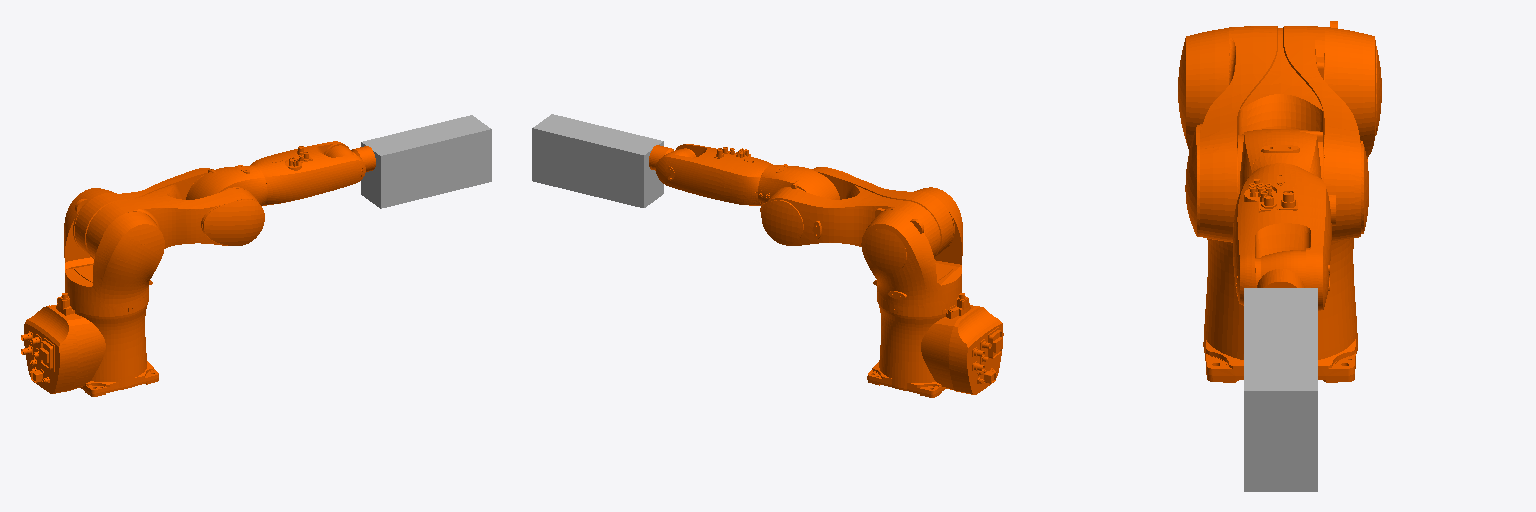
URDF robot description (kuka_kr6):
<?xml version="1.0" ?>
<!-- =================================================================================== -->
<!-- |    This document was autogenerated by xacro from kuka_kr6_description_mesh_noword.xacro | -->
<!-- |    EDITING THIS FILE BY HAND IS NOT RECOMMENDED                                 | -->
<!-- =================================================================================== -->
<robot name="kuka_kr6" xmlns:xacro="http://ros.org/wiki/xacro">
  <!-- link list -->
  <link name="base_link">
    <visual>
      <origin rpy="0 0 0" xyz="0 0 0"/>
      <geometry>
        <mesh filename="package://kuka_kr6/robots/base_link.STL"/>
      </geometry>
      <material name="orange">
        <color rgba="1 0.43 0 1"/>
      </material>
    </visual>
    <collision>
      <geometry>
        <mesh filename="package://kuka_kr6/robots/base_link_collision_reduced.STL"/>
      </geometry>
      <material name="yellow">
        <color rgba="0 1 1 1"/>
      </material>
    </collision>
  </link>
  <link name="link1">
    <visual>
      <origin rpy="0 0 0" xyz="0.025 0 0"/>
      <geometry>
        <mesh filename="package://kuka_kr6/robots/link1.STL"/>
      </geometry>
      <material name="orange"/>
    </visual>
    <collision>
      <geometry>
        <mesh filename="package://kuka_kr6/robots/link1_collision_reduced.STL"/>
      </geometry>
      <material name="yellow"/>
    </collision>
  </link>
  <link name="link2">
    <visual>
      <origin rpy="0 0 0" xyz="0 0 0"/>
      <geometry>
        <mesh filename="package://kuka_kr6/robots/link2.STL"/>
      </geometry>
      <material name="orange"/>
    </visual>
    <collision>
      <geometry>
        <mesh filename="package://kuka_kr6/robots/link2_collision_reduced.STL"/>
      </geometry>
      <material name="yellow"/>
    </collision>
  </link>
  <link name="link3">
    <visual>
      <origin rpy="0 0 0" xyz="0 -0.035 0"/>
      <geometry>
        <mesh filename="package://kuka_kr6/robots/link3.STL"/>
      </geometry>
      <material name="orange"/>
    </visual>
    <collision>
      <geometry>
        <mesh filename="package://kuka_kr6/robots/link3_collision_reduced.STL"/>
      </geometry>
      <material name="yellow"/>
    </collision>
  </link>
  <link name="link4">
    <visual>
      <origin rpy="0 0 0" xyz="0 0 0"/>
      <geometry>
        <mesh filename="package://kuka_kr6/robots/link4.STL"/>
      </geometry>
      <material name="orange"/>
    </visual>
    <collision>
      <geometry>
        <mesh filename="package://kuka_kr6/robots/link4_collision_reduced.STL"/>
      </geometry>
      <material name="yellow"/>
    </collision>
  </link>
  <link name="link5">
    <visual>
      <origin rpy="0 -1.57079633 0" xyz="0 0 0"/>
      <geometry>
        <mesh filename="package://kuka_kr6/robots/link5.STL"/>
      </geometry>
      <material name="orange"/>
    </visual>
    <collision>
      <geometry>
        <mesh filename="package://kuka_kr6/robots/link5_collision_reduced.STL"/>
      </geometry>
      <material name="yellow"/>
    </collision>
  </link>
  <link name="link6">
    <visual>
      <origin rpy="0 0 0" xyz="0 0 0"/>
      <geometry>
        <mesh filename="package://kuka_kr6/robots/link6.STL"/>
      </geometry>
      <material name="orange"/>
    </visual>
    <collision>
      <geometry>
        <mesh filename="package://kuka_kr6/robots/link6_collision_reduced.STL"/>
      </geometry>
      <material name="yellow"/>
    </collision>
  </link>
  <link name="flange">
    <visual>
      <origin rpy="0 0 0" xyz="0.05 0 0.165"/>
      <geometry>
        <box size="0.15 0.1 0.33"/>
      </geometry>
      <material name="silver">
        <color rgba="0.75 0.75 0.75 1"/>
      </material>
    </visual>
    <collision>
      <origin rpy="0 0 0" xyz="0.05 0 0.165"/>
      <geometry>
        <box size="0.15 0.1 0.33"/>
      </geometry>
      <material name="silver"/>
    </collision>
  </link>
  <link name="tip"/>
  <!-- end of link list -->
  <!-- joint list -->
  <joint name="joint1" type="revolute">
    <origin rpy="3.14159265 0 0" xyz="0 0 0.4"/>
    <parent link="base_link"/>
    <child link="link1"/>
    <axis xyz="0 0 1"/>
    <limit effort="1" lower="-2.967059728" upper="2.967059728" velocity="1"/>
  </joint>
  <joint name="joint2" type="revolute">
    <origin rpy="1.57079633 0 0" xyz="0.025 0 0"/>
    <parent link="link1"/>
    <child link="link2"/>
    <axis xyz="0 0 1"/>
    <limit effort="1" lower="-3.316125579" upper="0.785398163" velocity="1"/>
  </joint>
  <joint name="joint3" type="revolute">
    <origin rpy="0 0 0" xyz="0.315 0 0"/>
    <parent link="link2"/>
    <child link="link3"/>
    <axis xyz="0 0 1"/>
    <limit effort="1" lower="-2.094395102" upper="2.722713633" velocity="1"/>
  </joint>
  <joint name="joint4" type="revolute">
    <origin rpy="0 -1.57079633 0" xyz="0.365 -0.035 0"/>
    <parent link="link3"/>
    <child link="link4"/>
    <axis xyz="0 0 1"/>
    <limit effort="1" lower="-3.228859116" upper="3.228859116" velocity="1"/>
  </joint>
  <joint name="joint5" type="revolute">
    <origin rpy="0 1.57079633 0" xyz="0 0 0"/>
    <parent link="link4"/>
    <child link="link5"/>
    <axis xyz="0 0 1"/>
    <limit effort="1" lower="-2.094395102" upper="2.094395102" velocity="1"/>
  </joint>
  <joint name="joint6" type="revolute">
    <origin rpy="0 -1.57079633 0" xyz="0 0 0"/>
    <parent link="link5"/>
    <child link="link6"/>
    <axis xyz="0 0 1"/>
    <limit effort="1" lower="-6.108652382" upper="6.108652382" velocity="1"/>
  </joint>
  <joint name="flange_joint" type="fixed">
    <origin rpy="3.14159265 0 1.57079633" xyz="0 0 -0.08"/>
    <parent link="link6"/>
    <child link="flange"/>
  </joint>
  <joint name="tip_joint" type="fixed">
    <origin rpy="0 -1.57079633 -1.57079633" xyz="0 0 0.33"/>
    <parent link="flange"/>
    <child link="tip"/>
  </joint>
  <!-- end of joint list -->
  <!-- ROS base_link to World Coordinates transform -->
  <link name="world"/>
  <joint name="base_link-world" type="fixed">
    <origin rpy="0 0 0" xyz="0 0 0"/>
    <parent link="base_link"/>
    <child link="world"/>
  </joint>
</robot>

--- What the picture shows (computed from the rendered views, not written in the file) ---
3 views of the same robot in one strip: view 1: azimuth 30°, elevation 25°; view 2: azimuth 150°, elevation 25°; view 3: azimuth 270°, elevation 25° (orthographic).
Robot: kuka_kr6 — 10 links, 9 joints (6 revolute, 3 fixed); root link base_link; default pose: all joints at 0.
Links seen in each view (by area): view 1: base_link, flange, link2, link1, link4, link3, link5; view 2: base_link, flange, link2, link1, link4, link3; view 3: link2, flange, link4, base_link, link1, link3, link5.
Link boxes in pixels (x1=…): base_link: x1=21, y1=293, x2=158, y2=396; flange: x1=361, y1=115, x2=491, y2=208; link2: x1=75, y1=168, x2=264, y2=258; link1: x1=64, y1=188, x2=164, y2=316; link4: x1=251, y1=141, x2=365, y2=205; link3: x1=186, y1=165, x2=267, y2=205; link5: x1=326, y1=145, x2=375, y2=171; base_link: x1=867, y1=293, x2=1003, y2=397; flange: x1=532, y1=114, x2=663, y2=207; link2: x1=760, y1=167, x2=953, y2=257; link1: x1=861, y1=187, x2=962, y2=316; link4: x1=656, y1=144, x2=772, y2=205; link3: x1=758, y1=164, x2=839, y2=204; link2: x1=1185, y1=26, x2=1368, y2=242; flange: x1=1244, y1=288, x2=1317, y2=491; link4: x1=1233, y1=163, x2=1331, y2=310; base_link: x1=1203, y1=238, x2=1357, y2=382; link1: x1=1178, y1=21, x2=1381, y2=161; link3: x1=1237, y1=129, x2=1323, y2=199; link5: x1=1255, y1=250, x2=1305, y2=287.
Size in the robot's own frame: 1.34 by 0.2758 by 0.508 metres.
7 mesh visuals loaded from 7 distinct referenced files (7 binary STL).